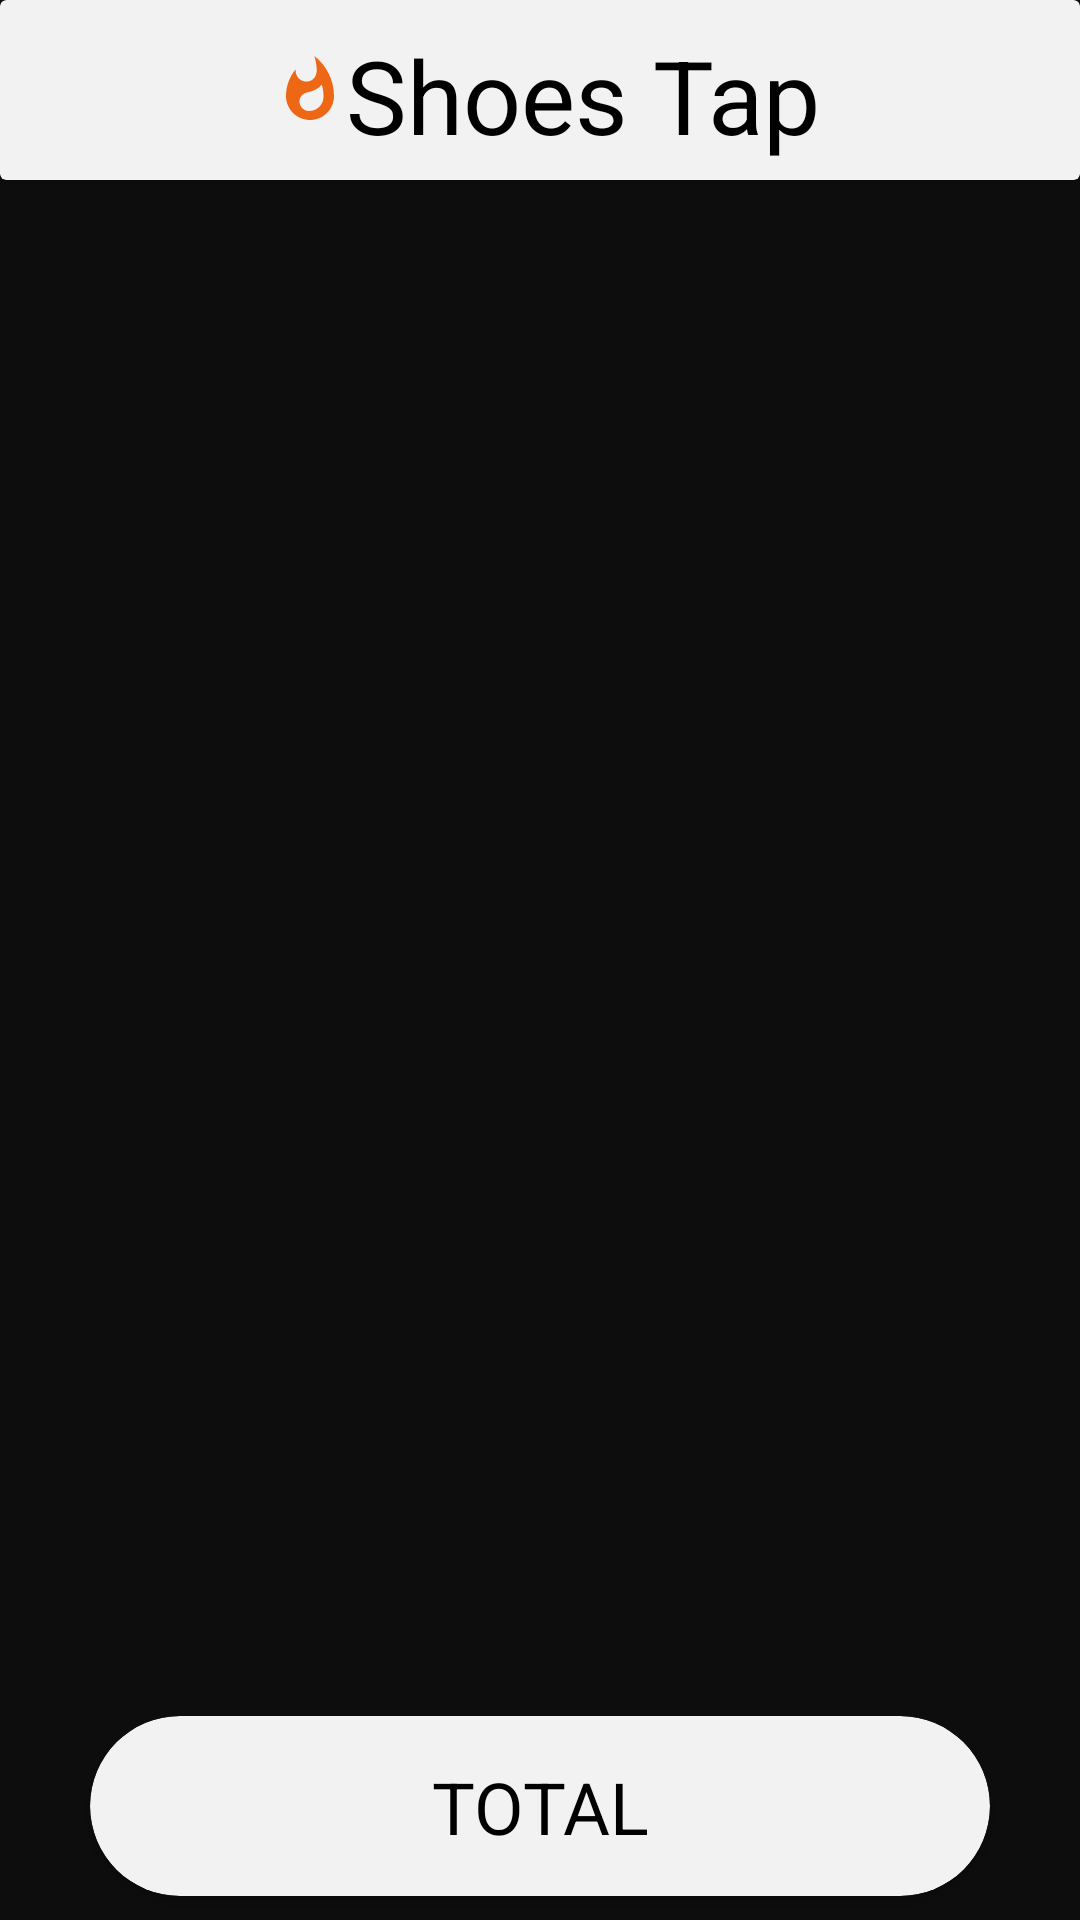

Named icons in this screenshot (1080×1920) and their bounding boxes, {"x1": x1, "y1": y1, "x2": x2, "y2": y2}:
whatshot: {"x1": 286, "y1": 56, "x2": 334, "y2": 120}
